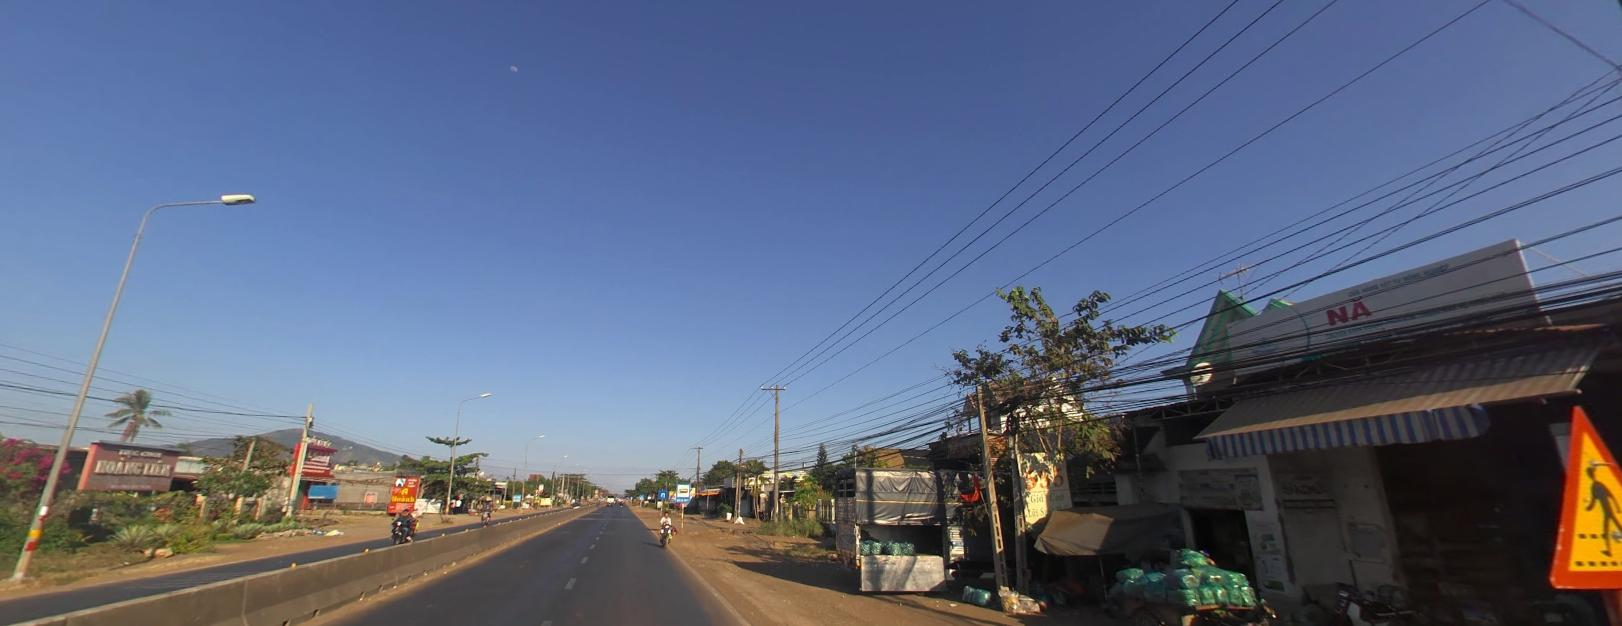Cam nguoc chieu: (599, 489, 603, 493)
Hieu lenh: (598, 493, 602, 497)
Nguy hiem: (1541, 393, 1620, 592)
